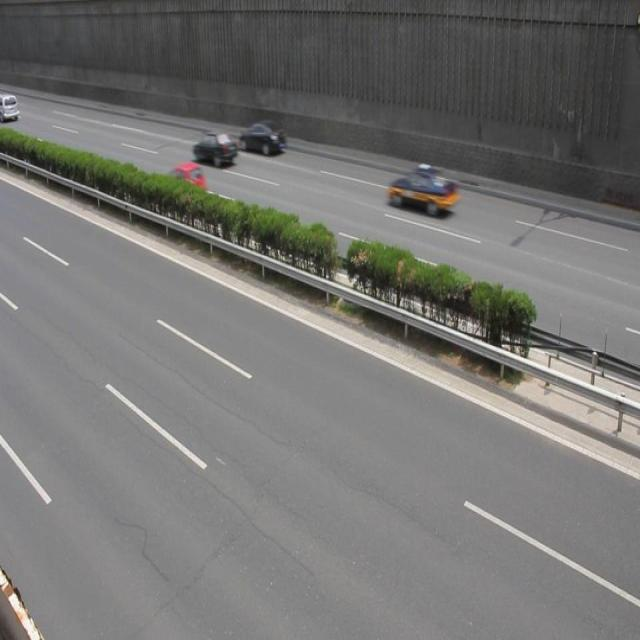car: (386, 164, 457, 216), (165, 158, 208, 205), (238, 119, 286, 156), (191, 132, 237, 168)
